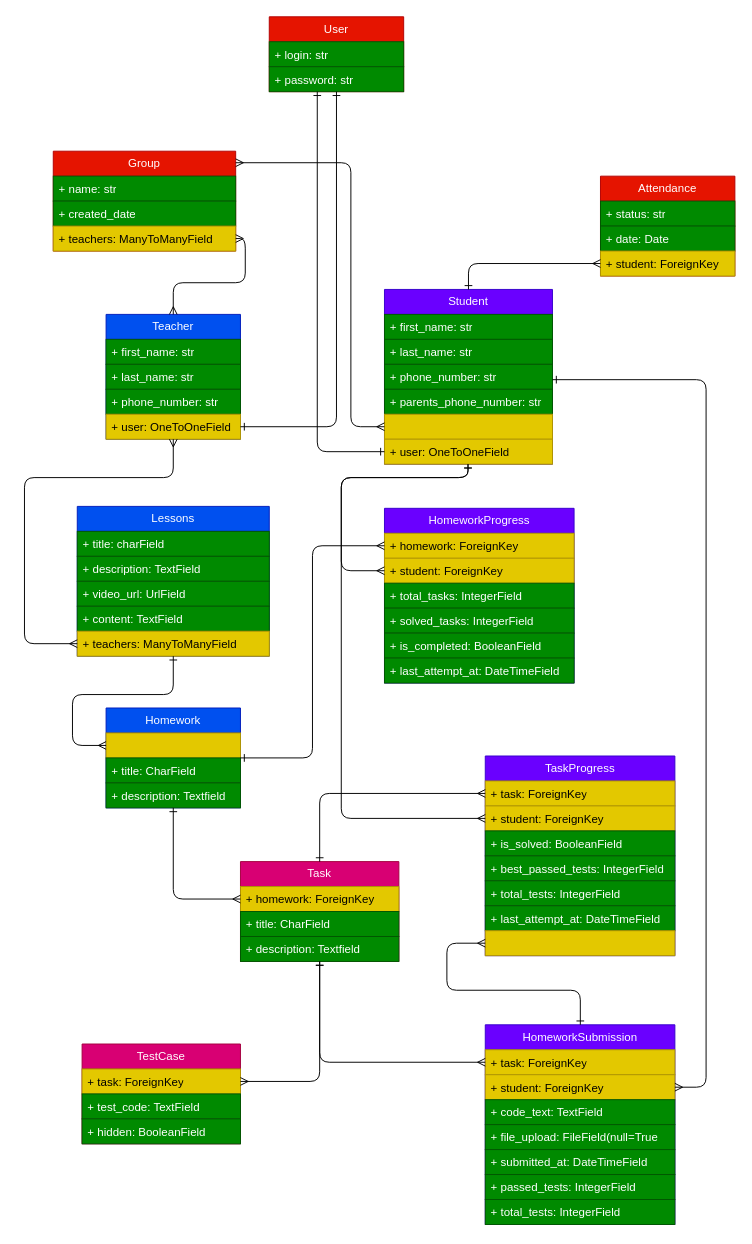
The diagram is 752 pixels wide and 1244 high, and some of its shapes have lost their labels. Each missing label, with the centre of its shape:
+ group:ManyToManyField: (468,426)
+ last_submission: ForeignKey: (579,943)
+ lesson: ForeignKey: (172,745)
